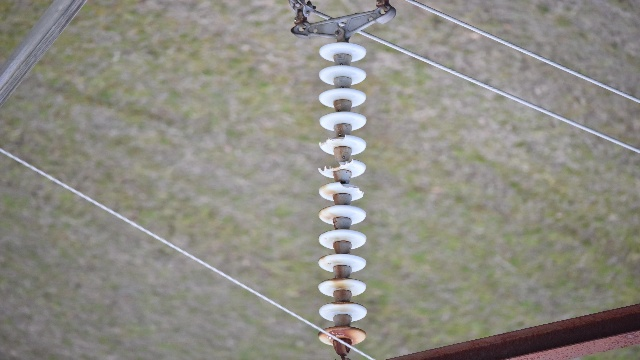broken_local: (317, 156, 356, 173), (337, 178, 366, 199), (320, 132, 350, 150)
insulator_unspecified: (316, 42, 369, 346)
